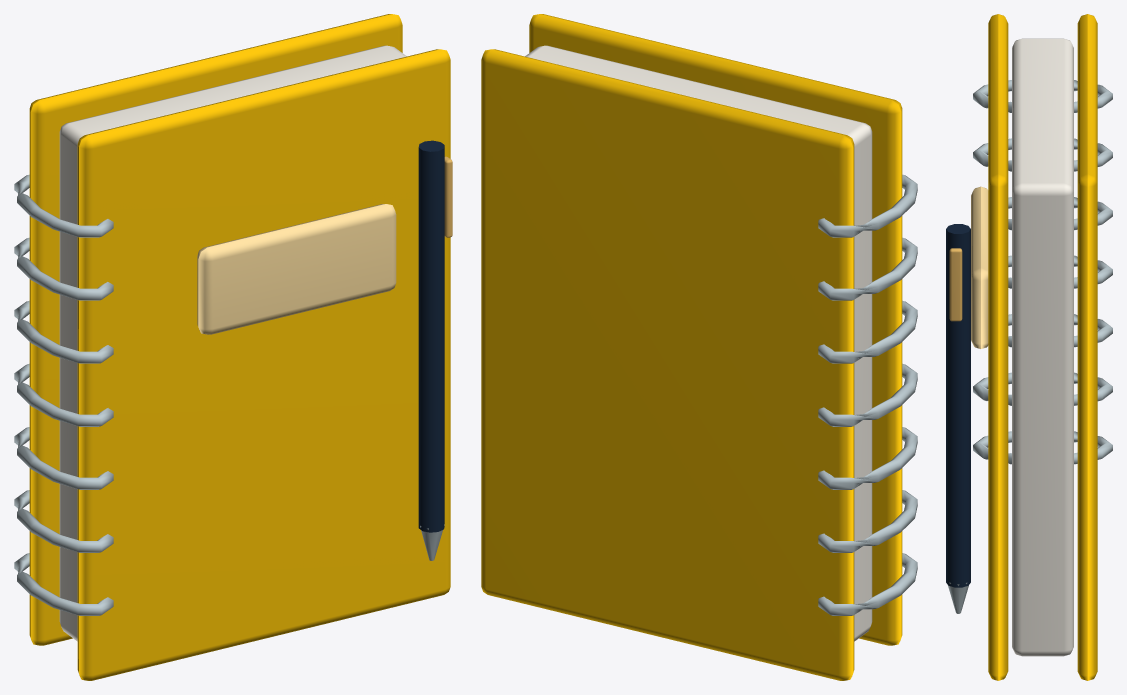
The model's file is 16_Notebook_Pen.glb.
The picture shows the model from 3 angles, left to right: view 1: azimuth 30°, elevation 25°; view 2: azimuth 150°, elevation 25°; view 3: azimuth 270°, elevation 25°; orthographic projection. The views are drawn at different scales.
Parts seen in each view (by area): view 1: 16_Notebook_Pen_EXPORT; view 2: 16_Notebook_Pen_EXPORT; view 3: 16_Notebook_Pen_EXPORT.
Boxes of the visible parts, bbox=[...] form: 16_Notebook_Pen_EXPORT: bbox=[14, 14, 452, 680]; 16_Notebook_Pen_EXPORT: bbox=[481, 14, 917, 680]; 16_Notebook_Pen_EXPORT: bbox=[946, 14, 1112, 680].
Bounding box in the file's own units: 0.3403 × 0.45 × 0.1343.
